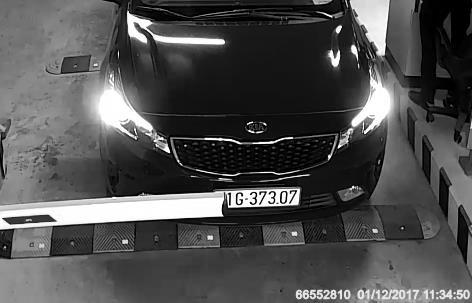License-plate: (211, 186, 309, 215)
